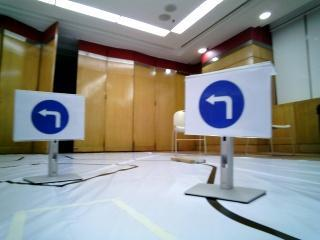left: (189, 75, 262, 127), (26, 92, 83, 141)
